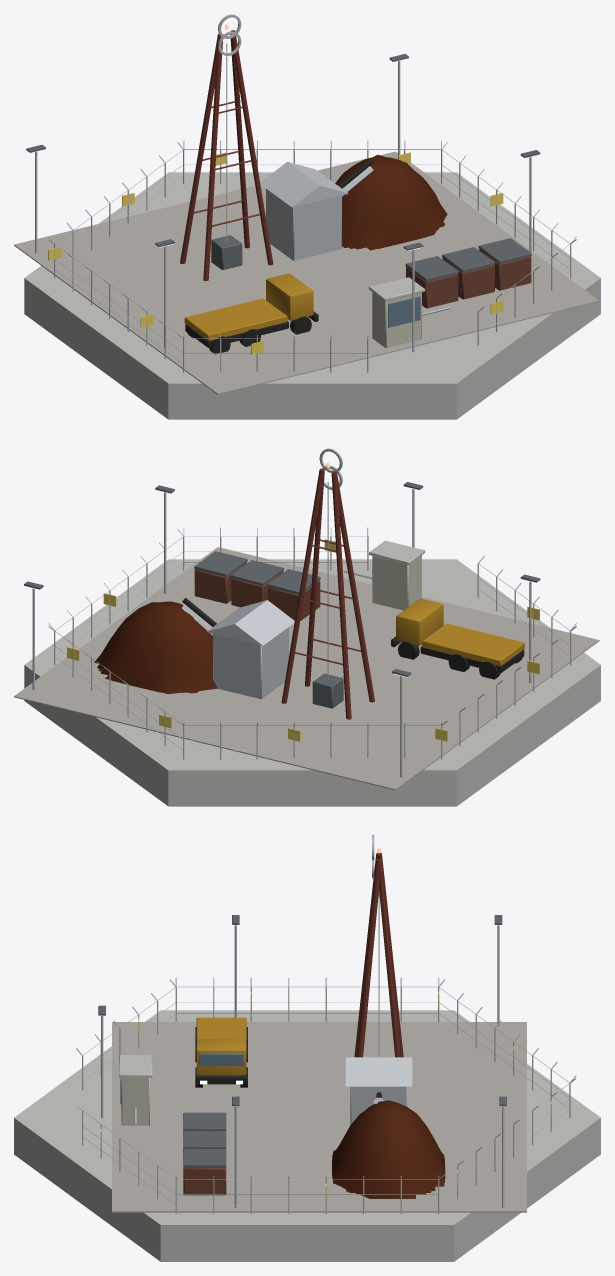
File: extractor_iron.glb
3 views of the same model, one above another, from view 1: azimuth 30°, elevation 25°; view 2: azimuth 150°, elevation 25°; view 3: azimuth 270°, elevation 25° (orthographic).
Parts seen in each view (by area): view 1: gravel, wall_concrete, paint, metal, cladding, earth, steel_dark, dark, hazard, glass; view 2: gravel, wall_concrete, paint, cladding, earth, metal, steel_dark, dark, hazard; view 3: gravel, wall_concrete, earth, metal, paint, cladding, steel_dark, dark, glass.
Part boxes in pixels (x1,y1,x2,y2): gravel: (14,151,599,394); wall_concrete: (24,172,600,419); paint: (180,30,531,341); metal: (35,14,576,372); cladding: (260,161,421,347); earth: (335,154,447,250); steel_dark: (26,54,540,281); dark: (185,159,372,354); hazard: (48,152,503,354); glass: (388,296,420,327); gravel: (14,547,599,790); wall_concrete: (24,540,600,806); paint: (194,468,524,719); cladding: (206,555,421,699); earth: (94,601,217,693); metal: (32,448,576,777); steel_dark: (24,482,540,708); dark: (182,598,524,679); hazard: (67,539,539,741); gravel: (112,1022,526,1212); wall_concrete: (14,1010,600,1261); earth: (332,1100,445,1198); metal: (76,835,576,1213); paint: (183,852,403,1195); cladding: (121,1057,412,1125); steel_dark: (98,915,506,1167); dark: (195,1027,381,1097); glass: (120,1053,244,1104).
Size of the model in its own units: 21.3 by 13.54 by 24.6.
